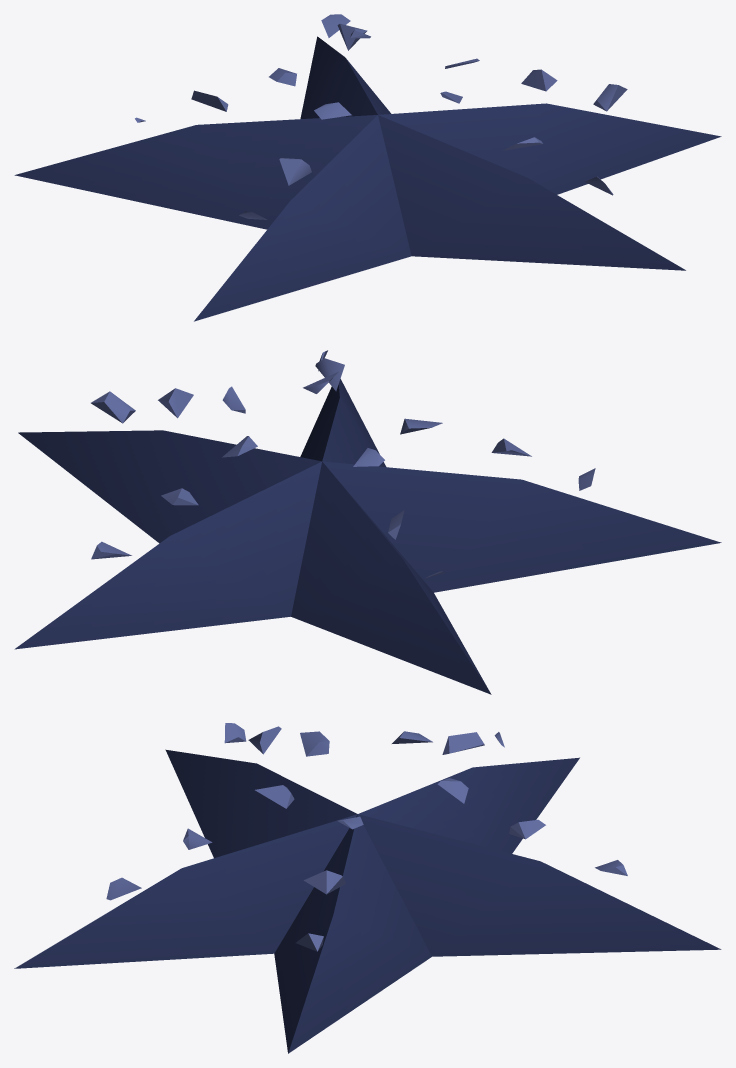
The model's file is starfish_blue.glb.
The picture shows the model from 3 angles, top to bottom: view 1: azimuth 30°, elevation 25°; view 2: azimuth 150°, elevation 25°; view 3: azimuth 270°, elevation 25°; orthographic projection. The views are drawn at different scales.
Visible parts, largest first — view 1: starfish_blue; view 2: starfish_blue; view 3: starfish_blue.
Boxes of the visible parts, <box> form: starfish_blue: <box>14,14,721,321</box>; starfish_blue: <box>14,350,721,694</box>; starfish_blue: <box>14,723,721,1053</box>.
Bounding box in the file's own units: 0.6669 × 0.1486 × 0.6559.
